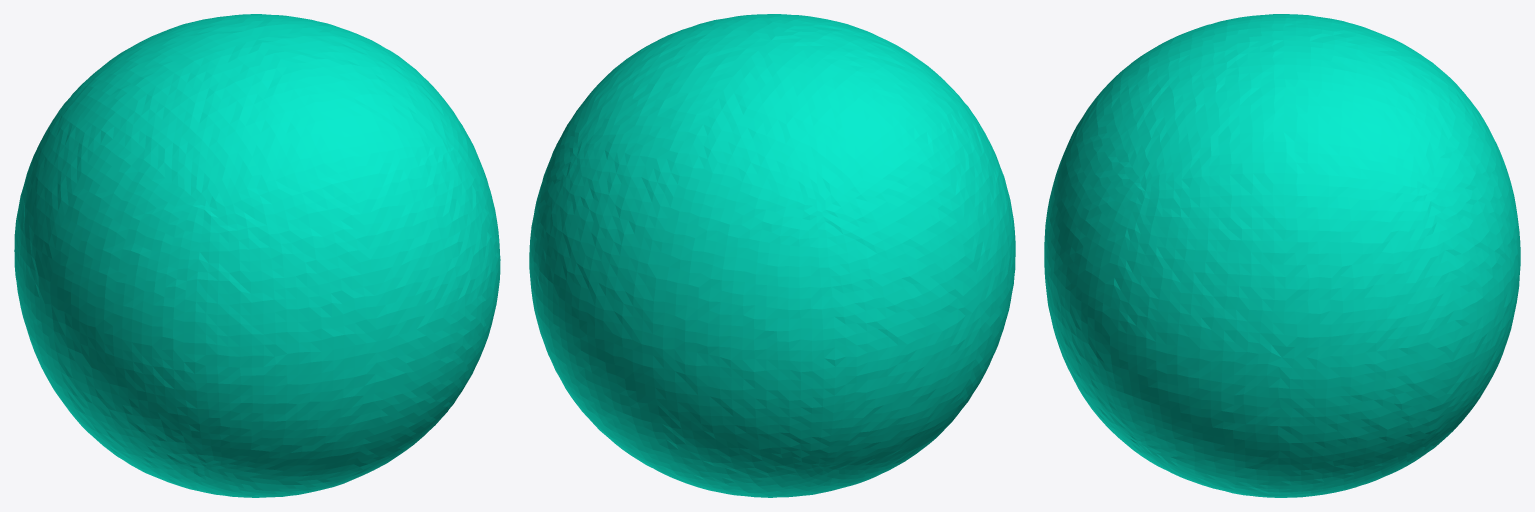
File: Sea07.fbx
3 views of the same model, side by side, from view 1: azimuth 30°, elevation 25°; view 2: azimuth 150°, elevation 25°; view 3: azimuth 270°, elevation 25° (orthographic).
Visible parts, largest first — view 1: pCube1; view 2: pCube1; view 3: pCube1.
Part boxes in pixels (bbox=[...]): pCube1: bbox=[14, 14, 500, 497]; pCube1: bbox=[529, 14, 1015, 497]; pCube1: bbox=[1044, 14, 1520, 497].
Size of the model in its own units: 40.4 by 40.43 by 40.4.
